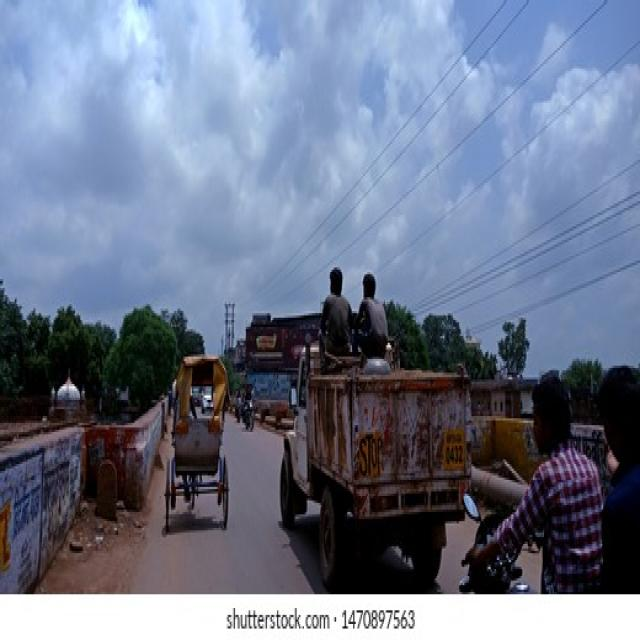bicycle: (165, 355, 229, 530)
truck: (281, 348, 470, 583)
